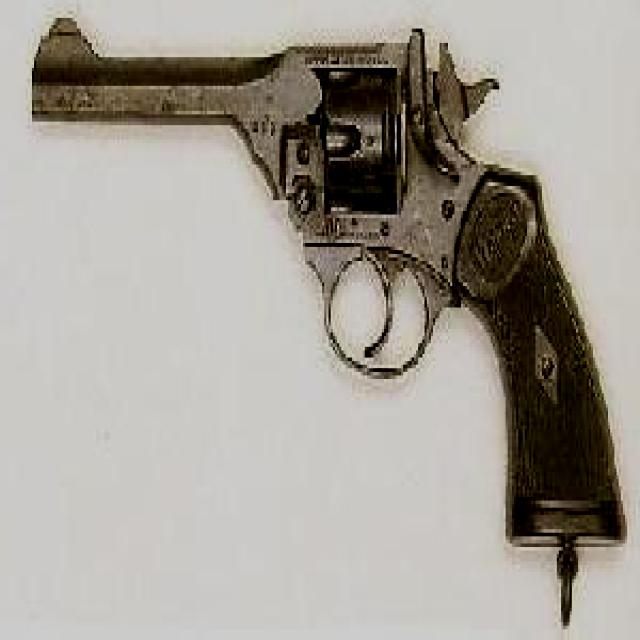pistol: (28, 11, 636, 547)
